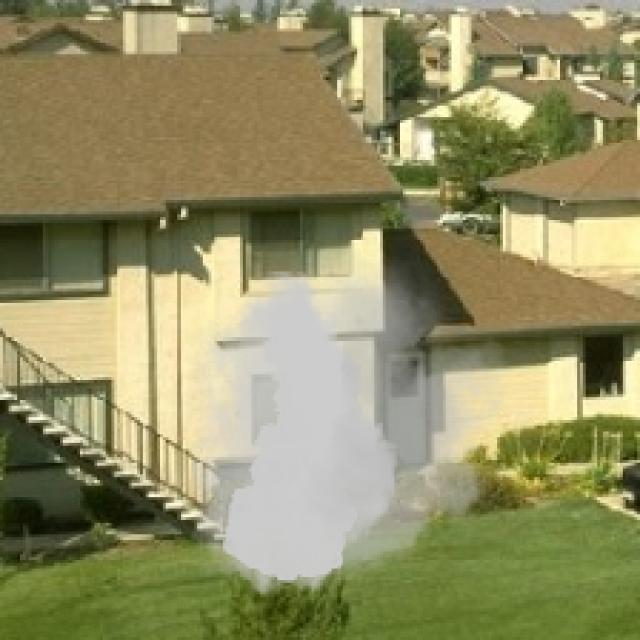Smoke: (163, 248, 526, 606)
